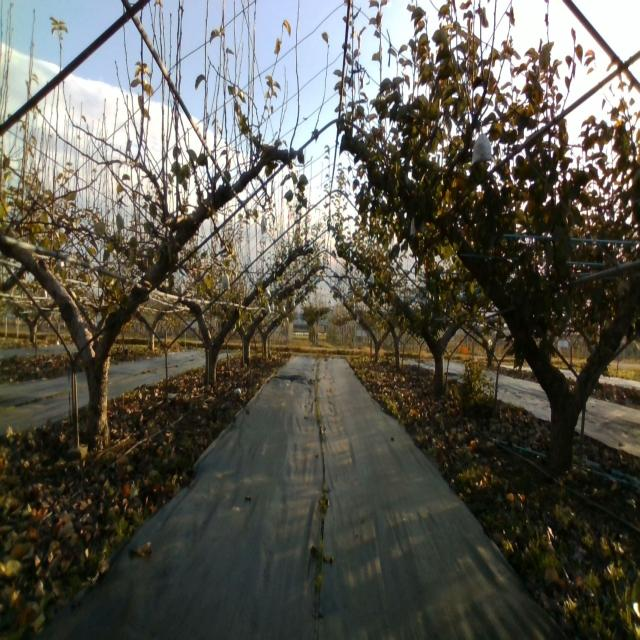pearbags: (471, 125, 495, 168)
